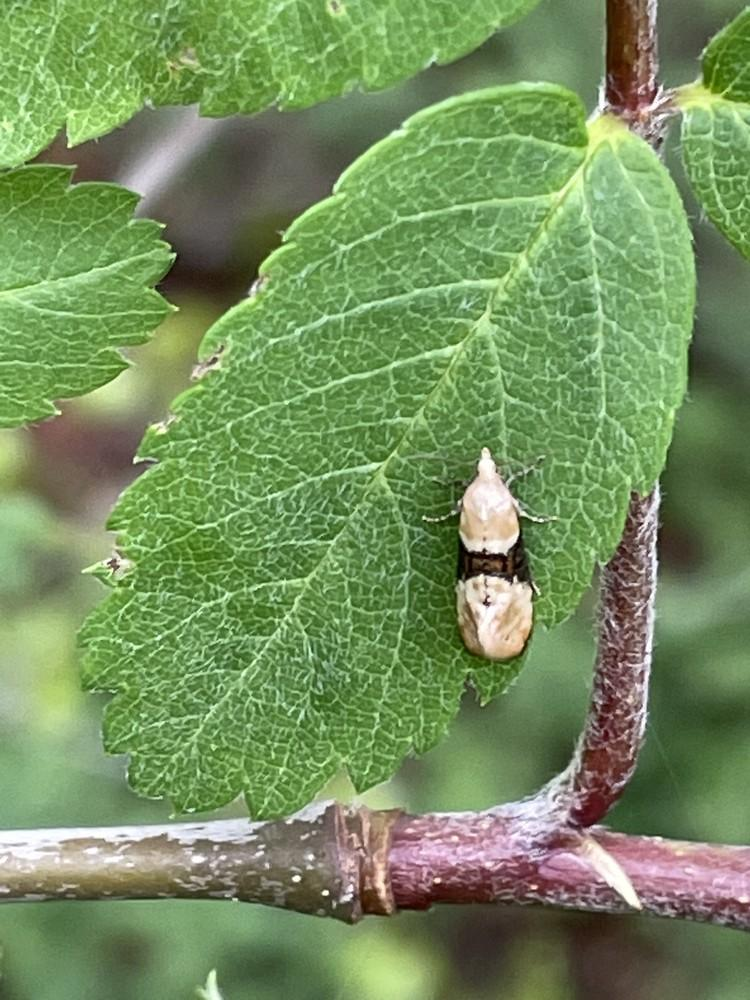Eupoecilia Ambiguella: (420, 443, 558, 665)
